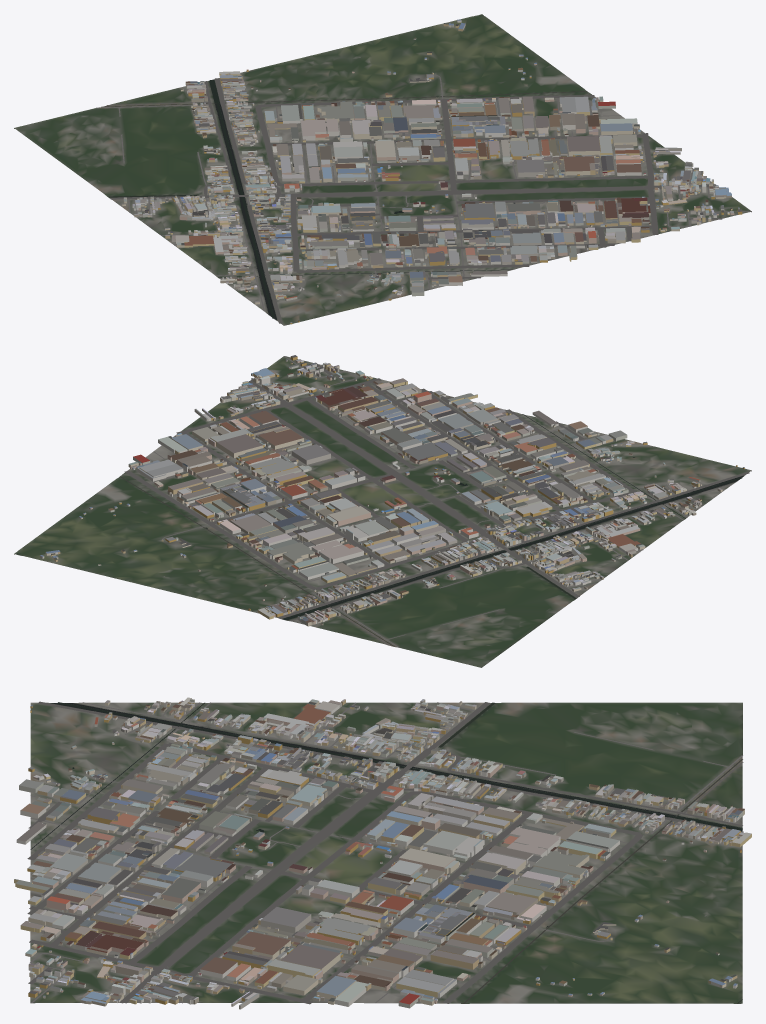
3 views of the same model, one above another, from view 1: azimuth 30°, elevation 25°; view 2: azimuth 150°, elevation 25°; view 3: azimuth 270°, elevation 25° (orthographic). The views are drawn at different scales.
Visible parts, largest first — view 1: ground, buildings, roads, water; view 2: ground, buildings, roads, water; view 3: ground, buildings, roads, water.
Boxes of the visible parts, <box> form: ground: <box>14,14,751,325</box>; buildings: <box>122,19,742,324</box>; roads: <box>96,57,751,323</box>; water: <box>101,15,587,319</box>; ground: <box>14,356,751,667</box>; buildings: <box>40,355,744,626</box>; roads: <box>124,356,749,647</box>; water: <box>16,414,743,646</box>; ground: <box>30,702,742,1003</box>; buildings: <box>14,697,751,1009</box>; roads: <box>27,701,743,1004</box>; water: <box>30,702,742,1003</box>.
Bounding box in the file's own units: 1441 × 23.29 × 1451.
